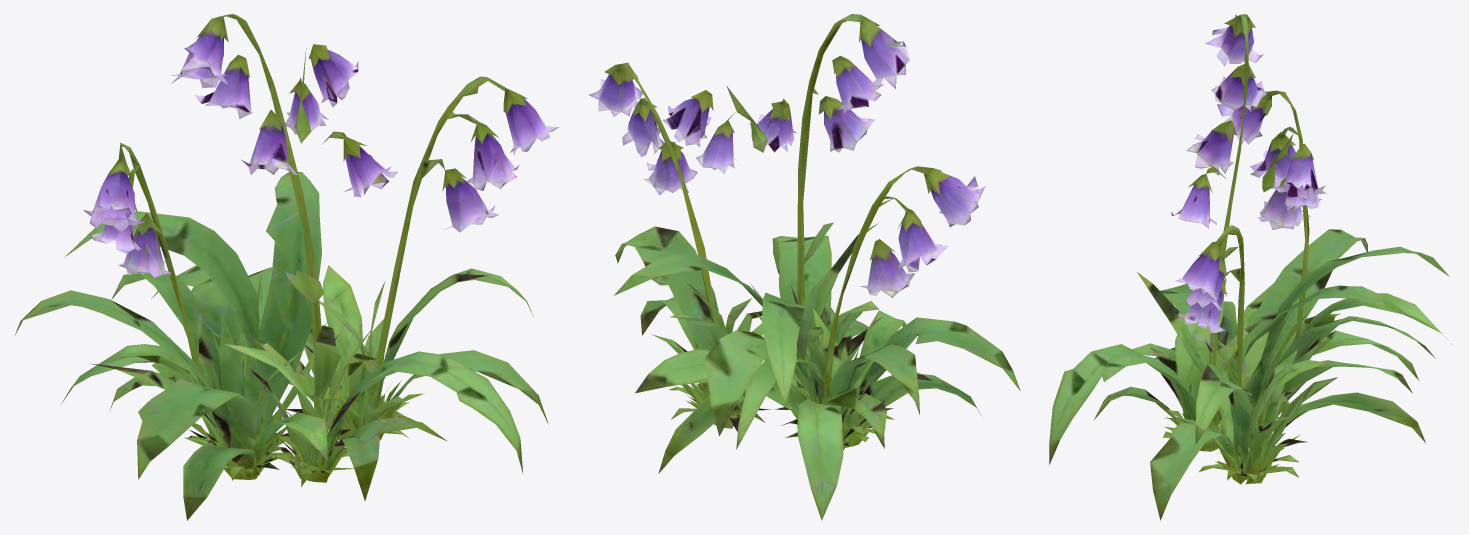
The model's file is bell.glb.
3 renders of one model, left to right at view 1: azimuth 30°, elevation 25°; view 2: azimuth 150°, elevation 25°; view 3: azimuth 270°, elevation 25°, orthographic. The views are drawn at different scales.
Visible parts, largest first — view 1: Mesh_0; view 2: Mesh_0; view 3: Mesh_0.
Part boxes in pixels (left/top/right/bottom): Mesh_0: left=15, top=14, right=559, bottom=520; Mesh_0: left=589, top=14, right=1020, bottom=520; Mesh_0: left=1049, top=14, right=1451, bottom=520.
Size of the model in its own units: 0.3609 by 0.36 by 0.3282.
1 material, 1 textured.
